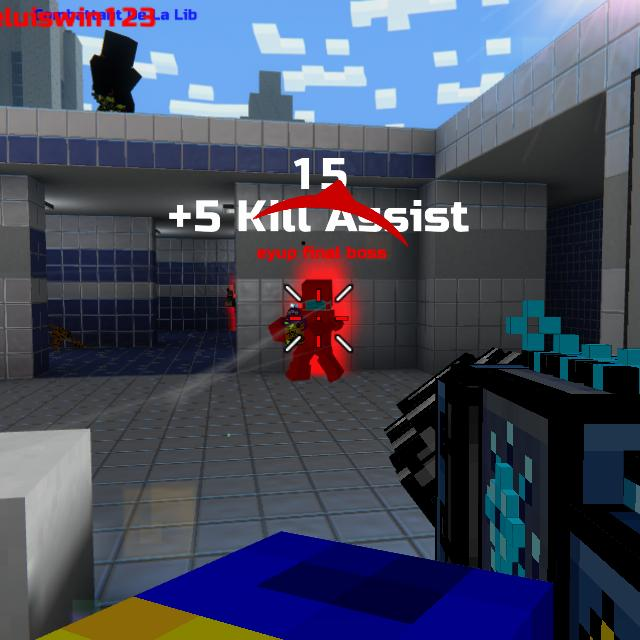Enemy: (269, 280, 344, 383), (225, 282, 235, 331)
